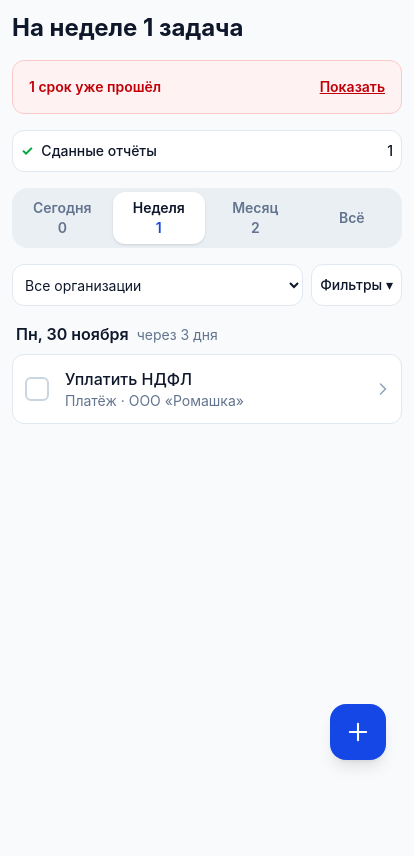
Test: экран задач › сданные отчёты открываются отдельной кнопкой и не зачёркнуты
expect the text "Сдать декларацию по НДС" is not shown: met
Step 1. Click the button named "Сданные отчёты1" → (99,150), box [12, 130, 402, 172]
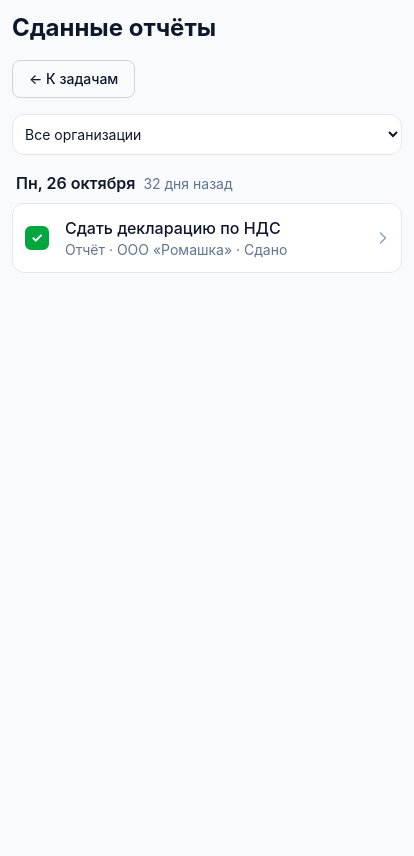
expect the link "Уплатить НДФЛ" is gone: met
Step 2. Click the checkbox named "Вернуть в план" → (33,238), box [13, 204, 53, 272]
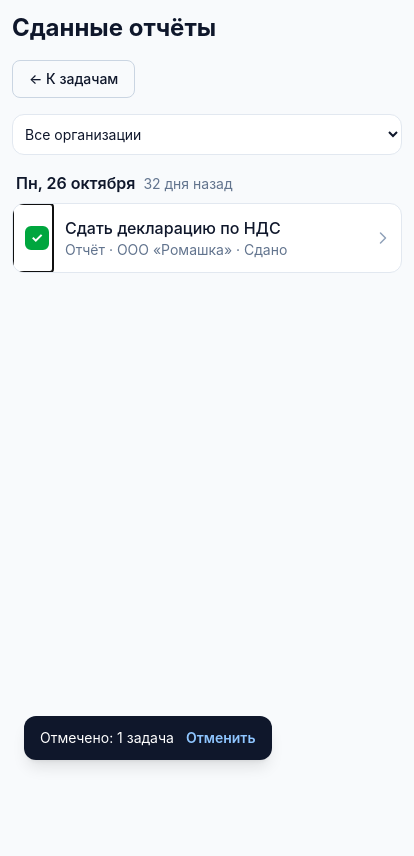
Step 3. Click the button "← К задачам" → (74,79), box [12, 60, 135, 98]
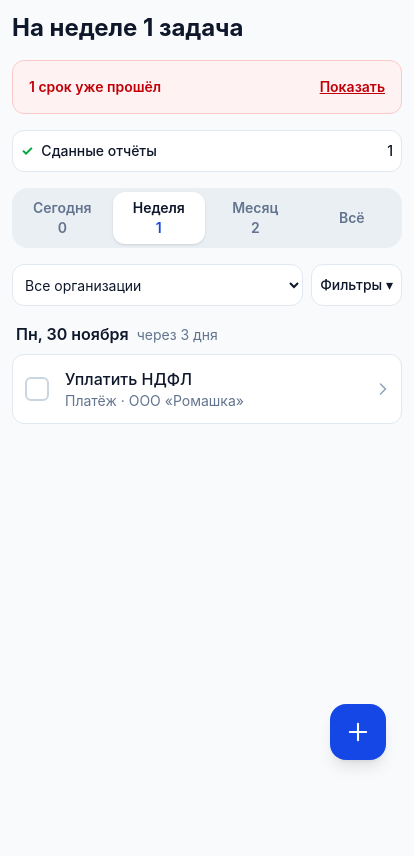
expect the text "Уплатить НДФЛ" is shown: met, box [65, 369, 192, 389]
